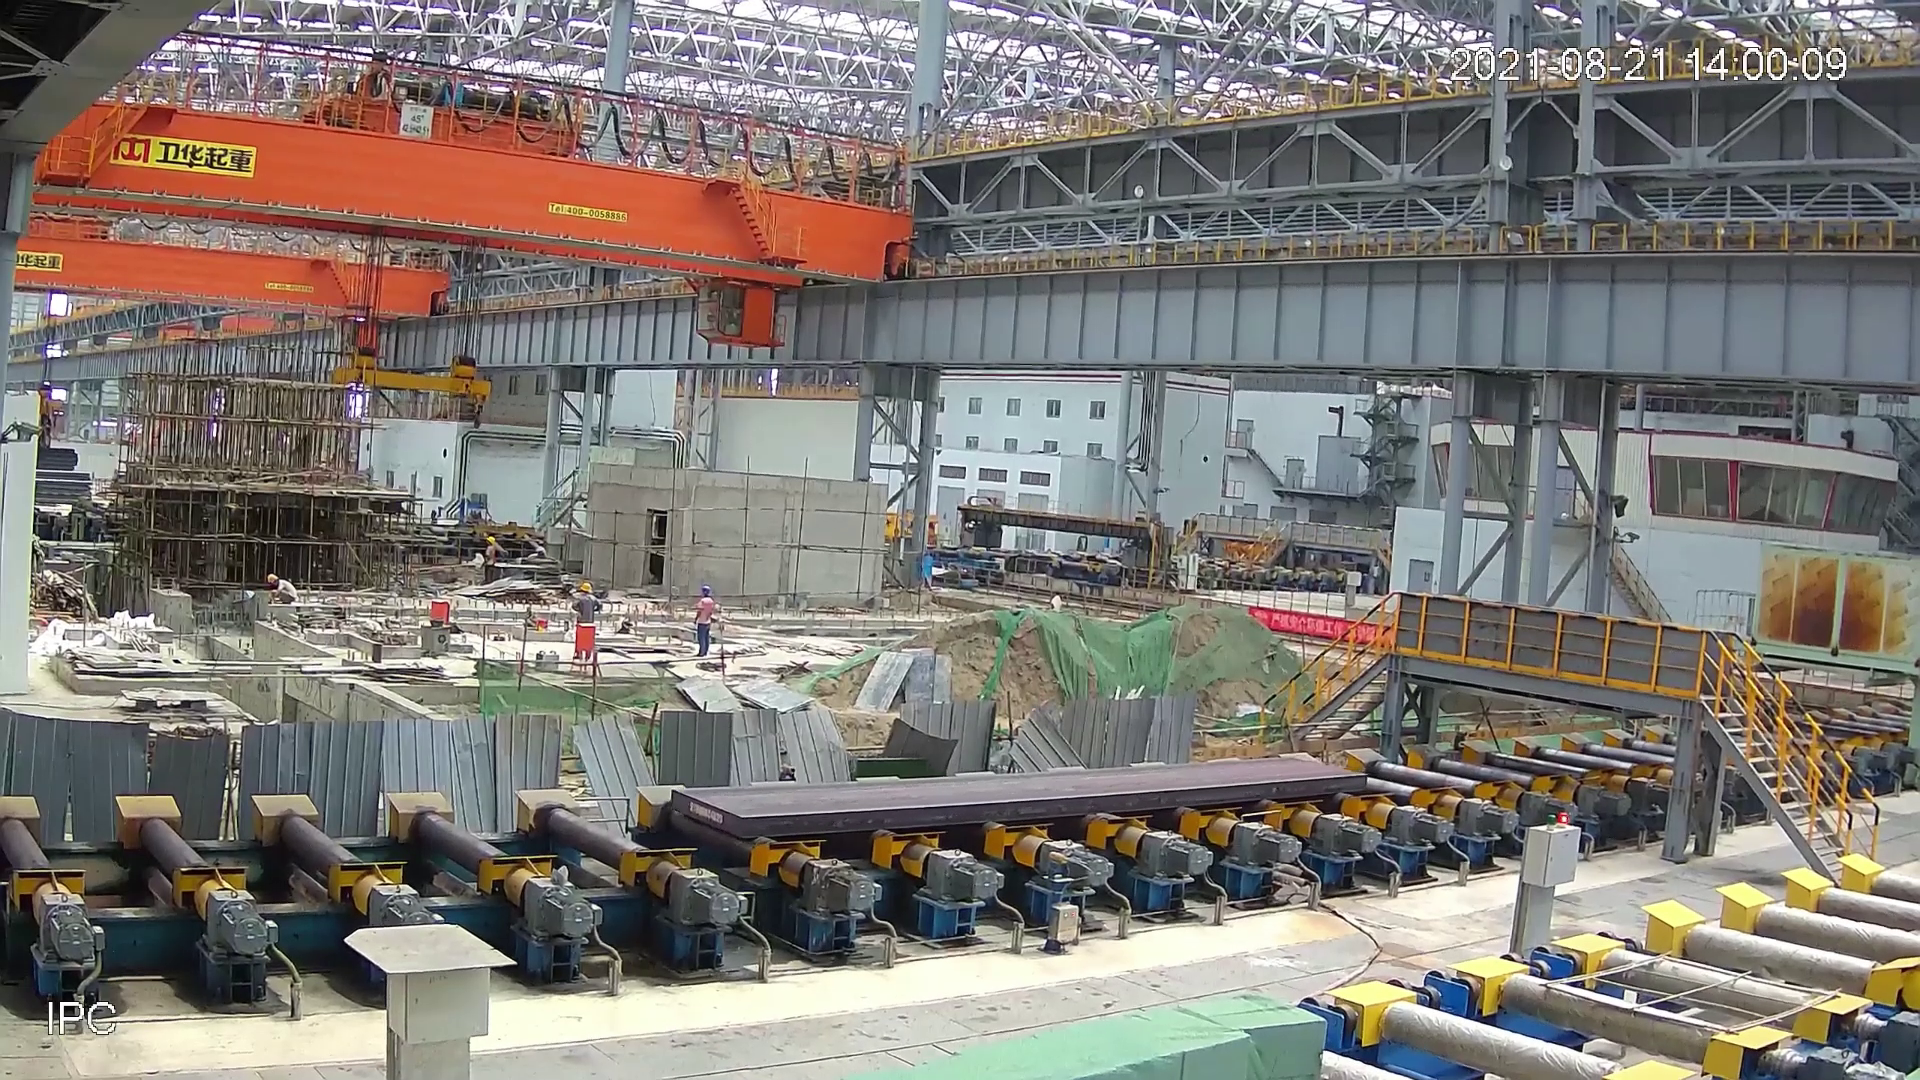slab: (662, 752, 1382, 840)
